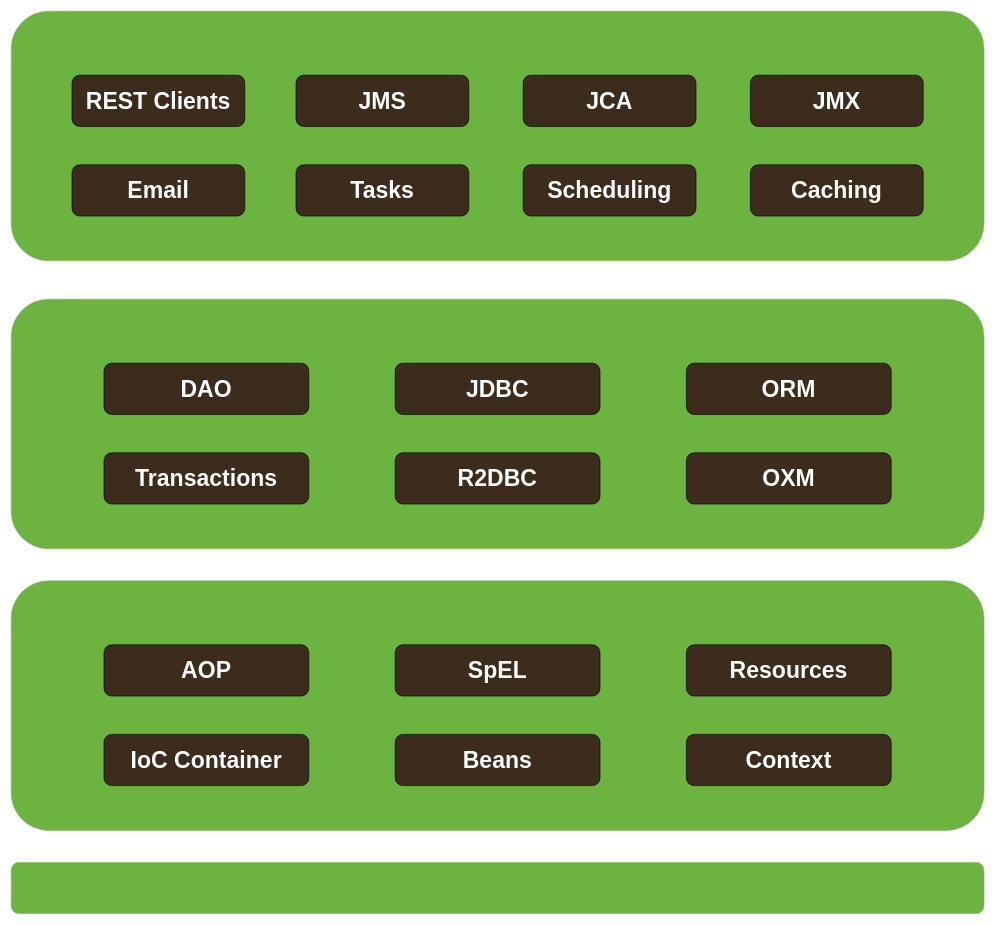
Some shapes in this 995 by 925 pixel diagram are drawn without their labels. Each missing label, with the box of its shape:
Core: (11, 580, 984, 830)
Data Access: (11, 299, 984, 549)
Integration: (11, 11, 984, 261)
Test: (11, 862, 984, 914)
